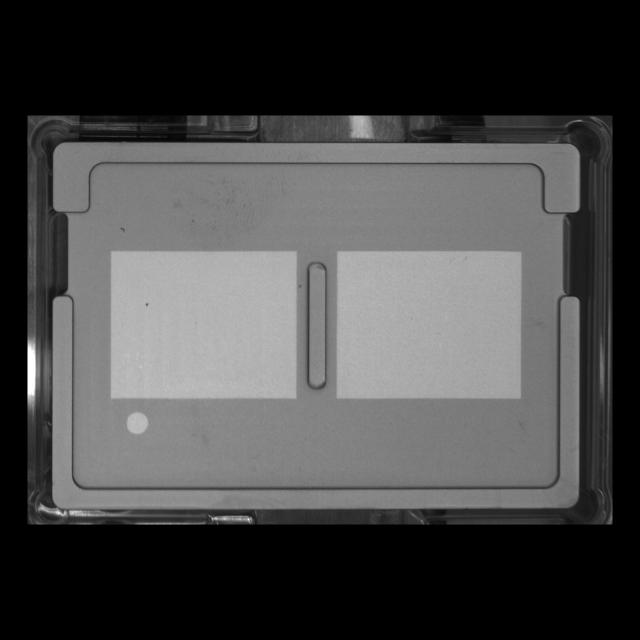door: (40, 132, 593, 233)
point: (124, 408, 152, 438)
